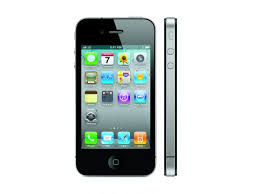iphone: (73, 15, 157, 179)
iphone4: (74, 15, 158, 179)
